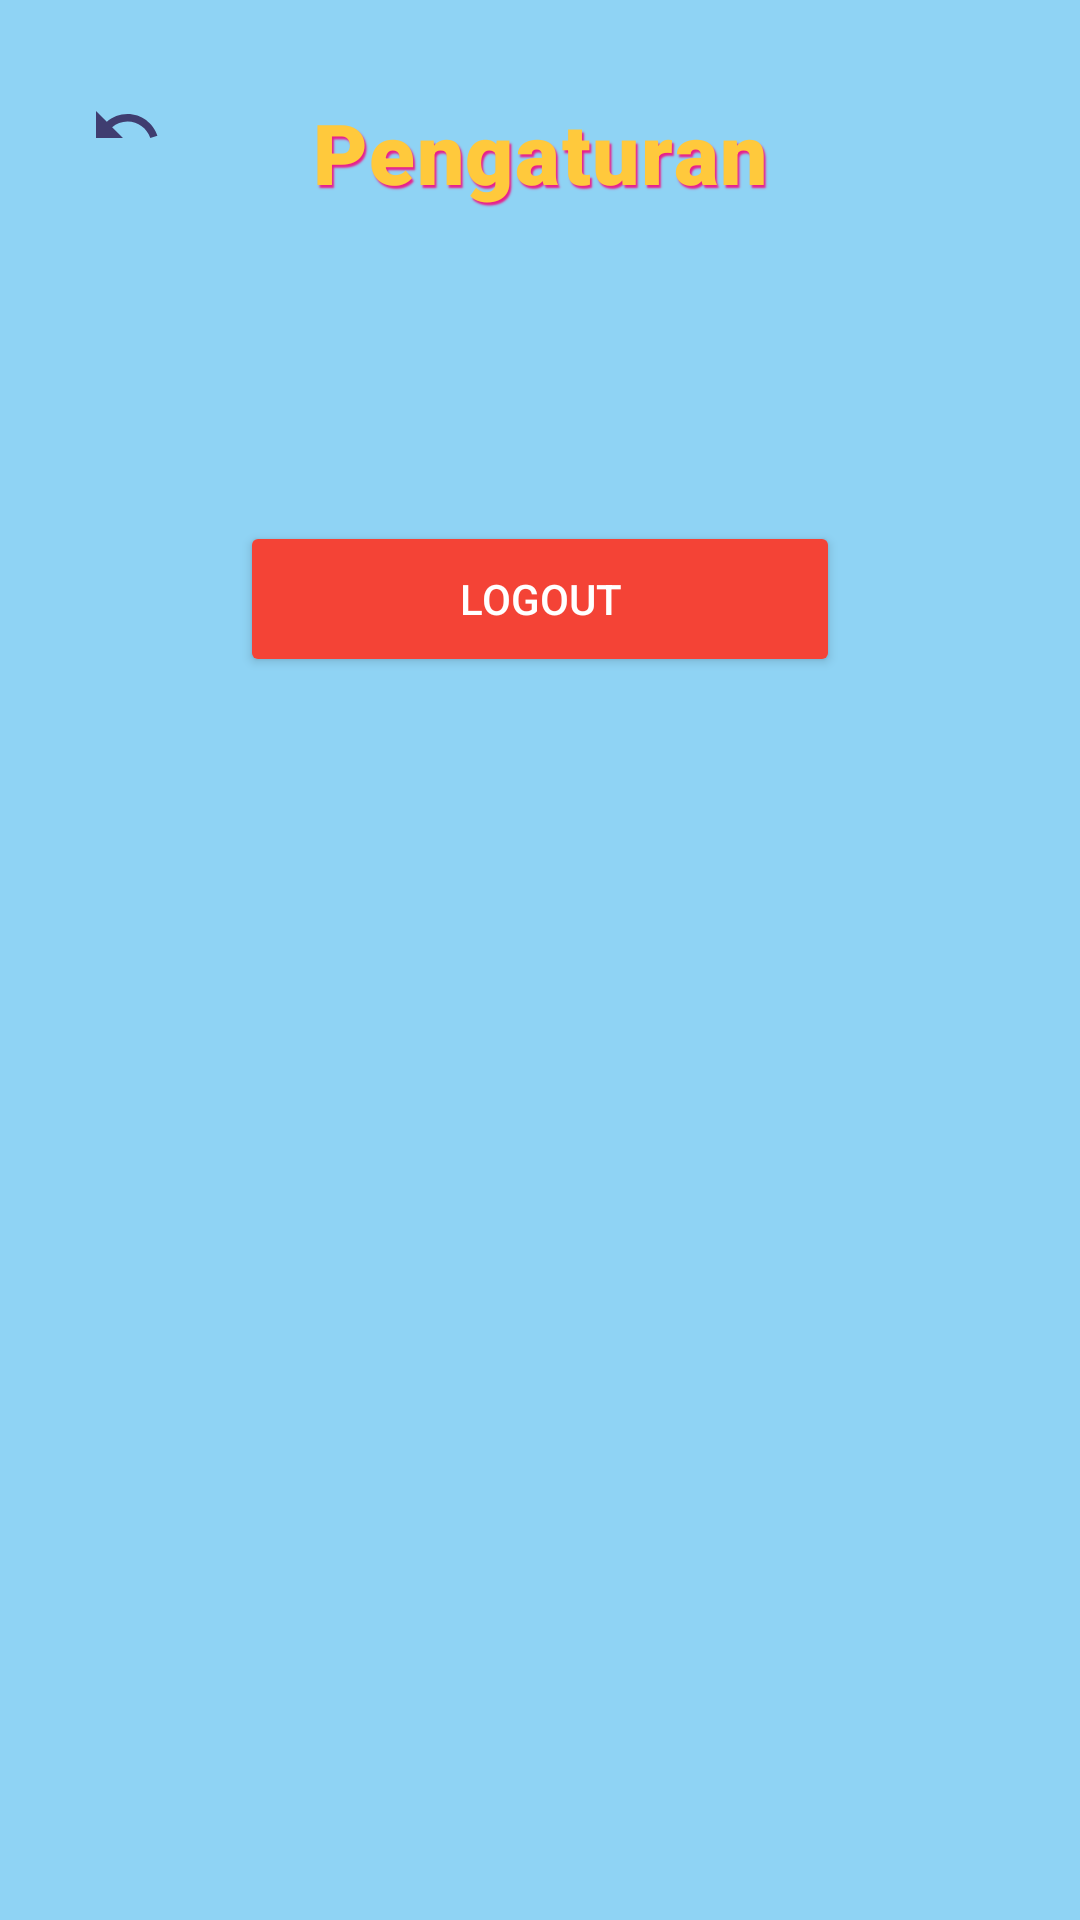

Icon click points for this 1080×1920 phone screenshot, format (x,y):
Sebelumnya: (127,124)
